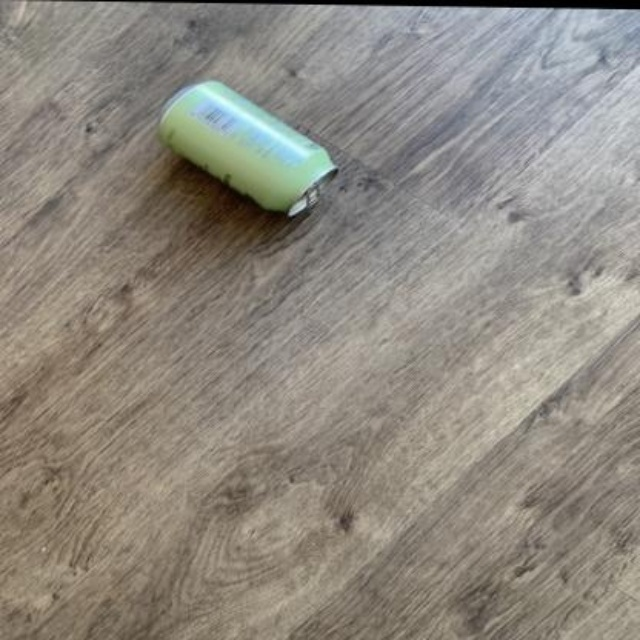trash: (158, 80, 335, 215)
